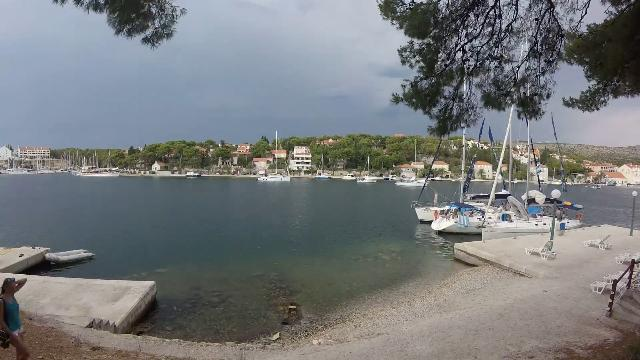Sailboat: (393, 171, 431, 189), (255, 170, 298, 184), (355, 172, 379, 186)
